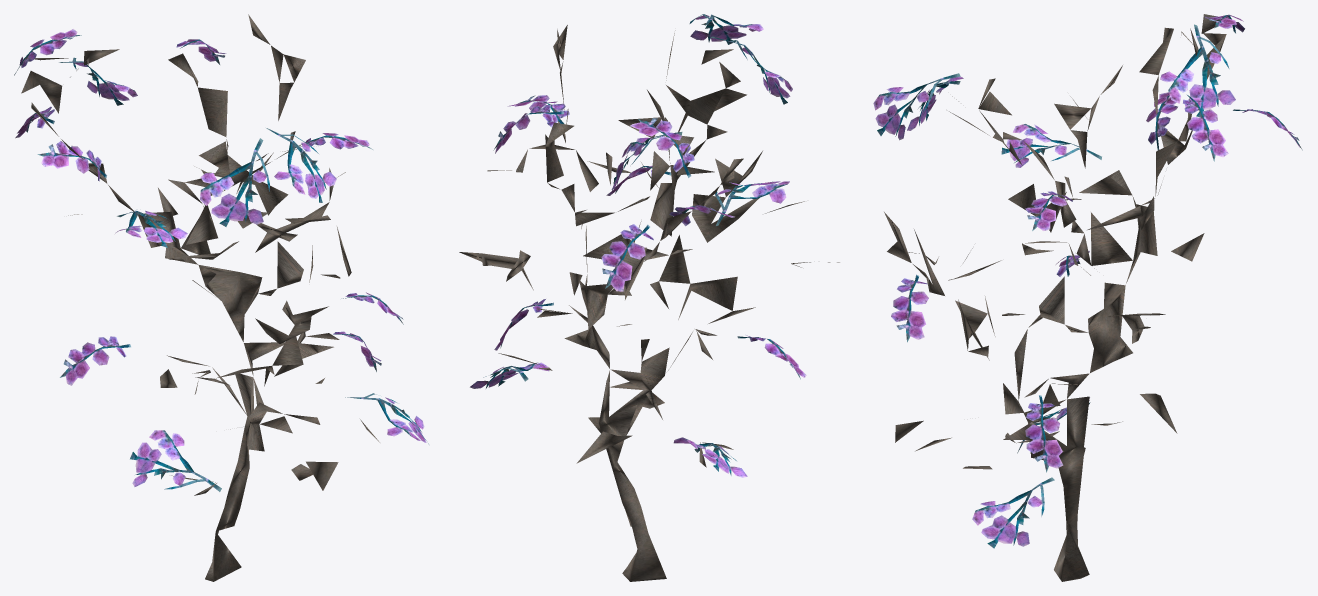
Rendered from tree_ipe_far.glb.
3 renders of one model, left to right at view 1: azimuth 30°, elevation 25°; view 2: azimuth 150°, elevation 25°; view 3: azimuth 270°, elevation 25°, orthographic. The views are drawn at different scales.
Visible parts, largest first — view 1: Broadleaf Dense Tree Adult; view 2: Broadleaf Dense Tree Adult; view 3: Broadleaf Dense Tree Adult.
Boxes of the visible parts, left/top/right/bottom form: Broadleaf Dense Tree Adult: left=14, top=14, right=428, bottom=581; Broadleaf Dense Tree Adult: left=459, top=14, right=839, bottom=581; Broadleaf Dense Tree Adult: left=873, top=14, right=1302, bottom=581.
Bounding box in the file's own units: 4.58 × 6.76 × 4.88.
Materials: 2 (2 with a texture image).
